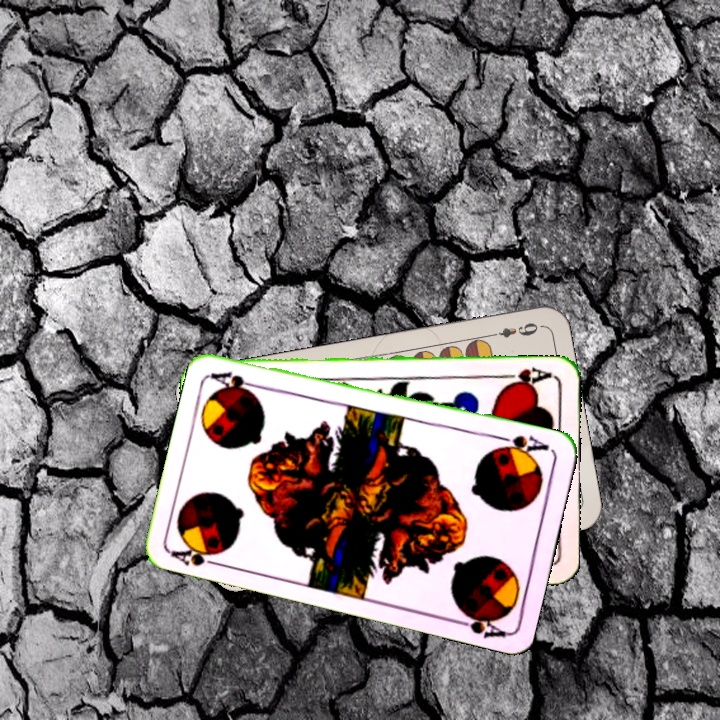E9: (485, 318, 544, 340)
HA: (495, 363, 554, 390)
SA: (167, 538, 227, 570), (492, 431, 552, 460)
